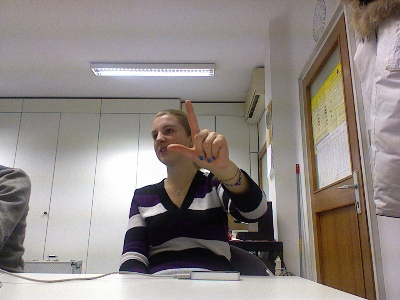枪: (165, 99, 229, 170)
